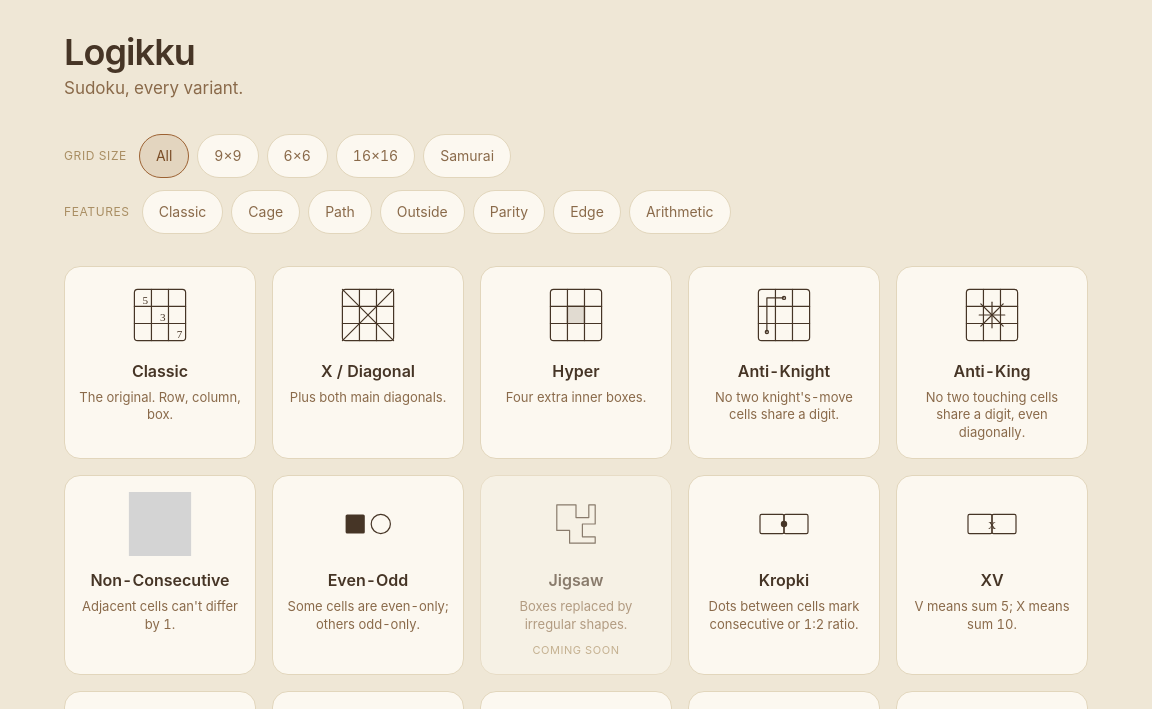
Test: Home › feature filter (Cage) keeps only killer
The image size is (1152, 709).
Expected: the link with test id "variant-card-classic" is shown, [64,266,256,459]
Click the button with test id "filter-feature-cage" at (266, 212), box [231,190,300,234]
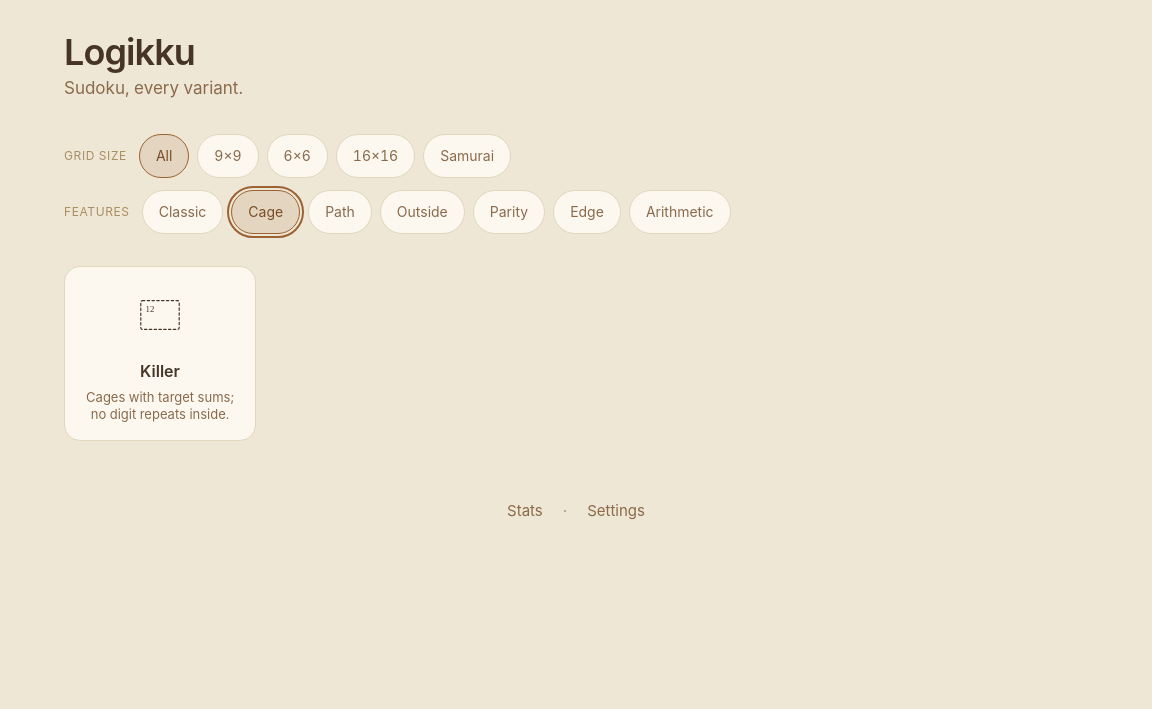
Expected: the link with test id "variant-card-killer" is shown, [64,266,256,441]
Result: the link with test id "variant-card-classic" is gone
